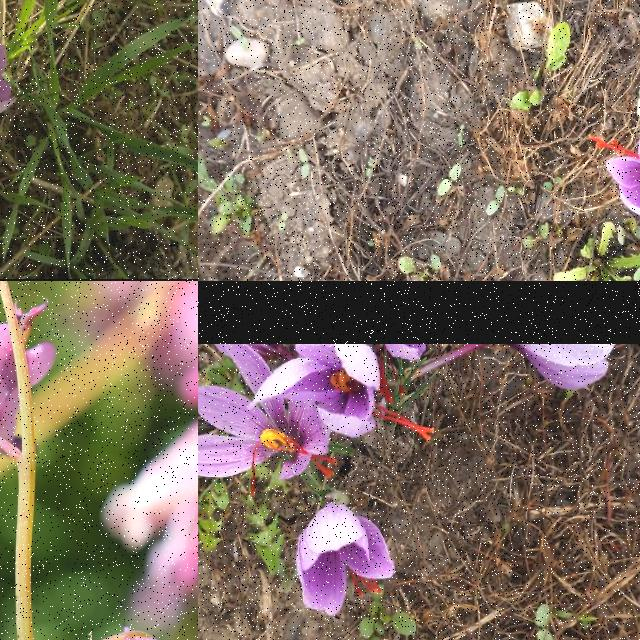flower: (198, 344, 337, 497), (247, 344, 433, 442), (295, 502, 395, 616), (588, 121, 640, 229)
overlap: (198, 344, 615, 497)
